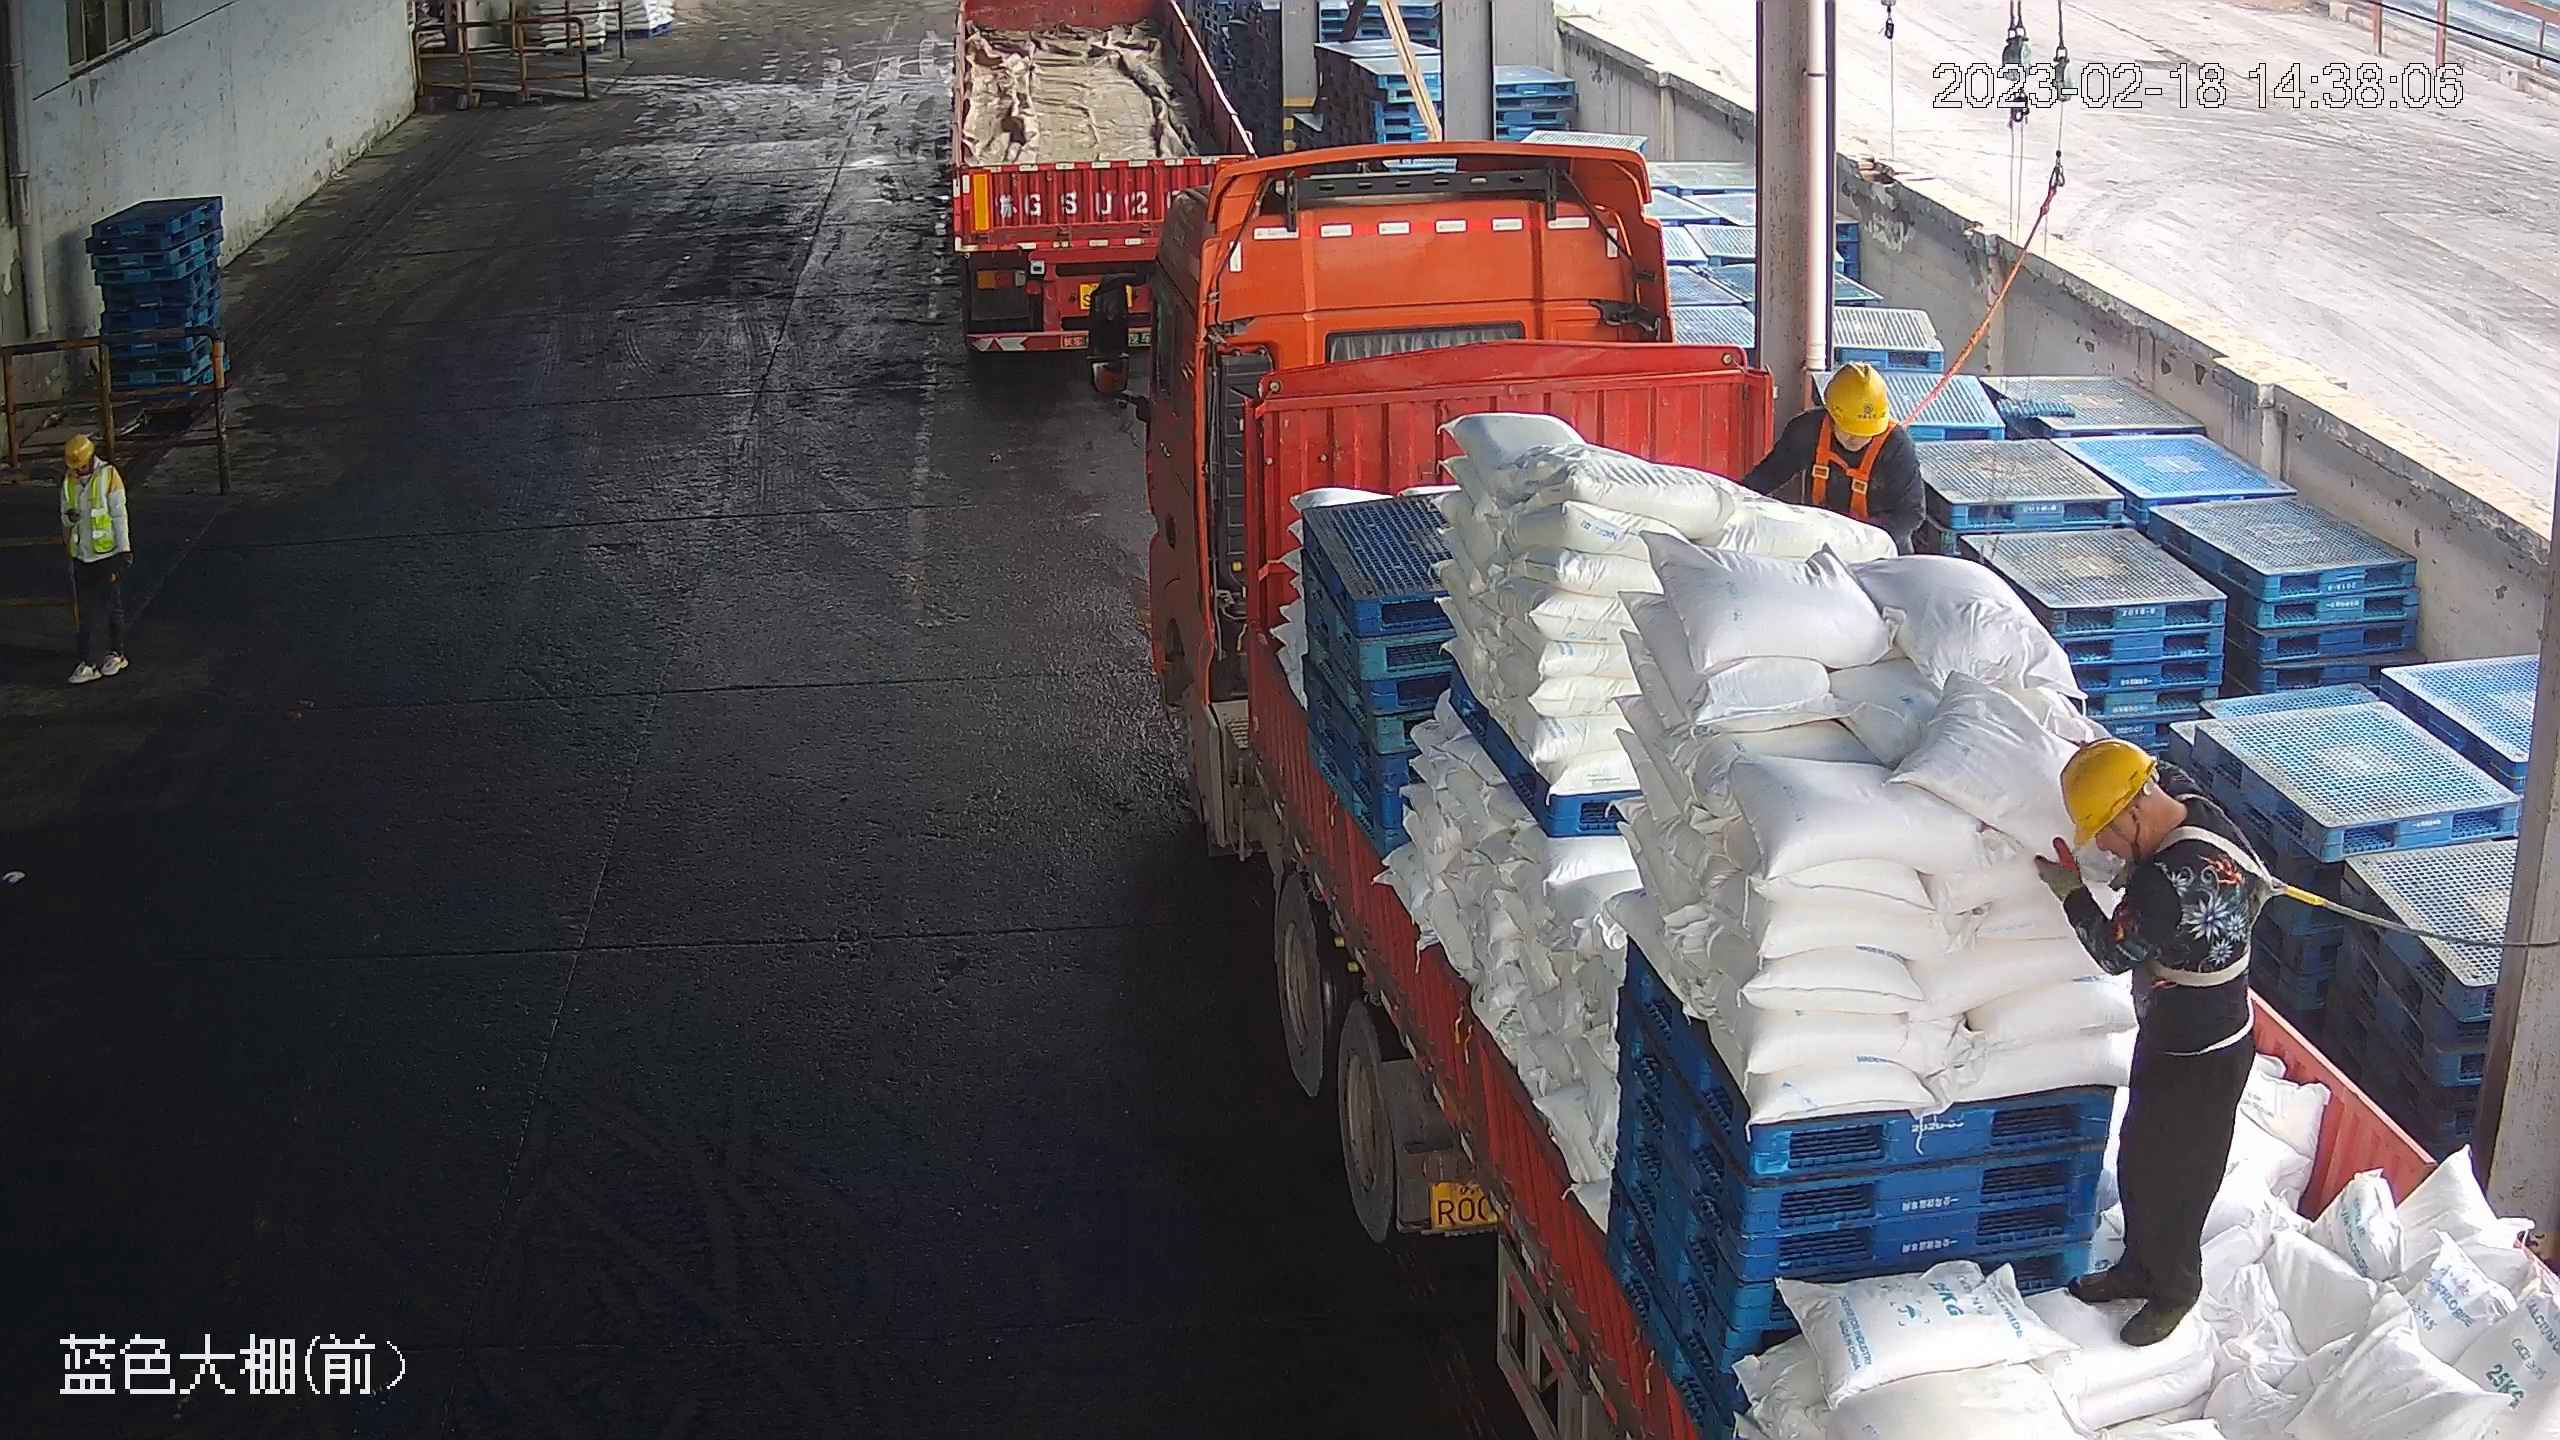belt: (2154, 839, 2273, 989), (1805, 422, 1892, 526)
head: (2048, 736, 2249, 960), (1775, 357, 1921, 473), (62, 430, 123, 504)
helmet: (2055, 734, 2160, 848), (1824, 357, 1892, 437), (65, 429, 100, 462)
people: (2036, 739, 2266, 1347), (47, 423, 140, 699)
truck: (1129, 129, 2560, 1440), (932, 6, 1260, 358)
